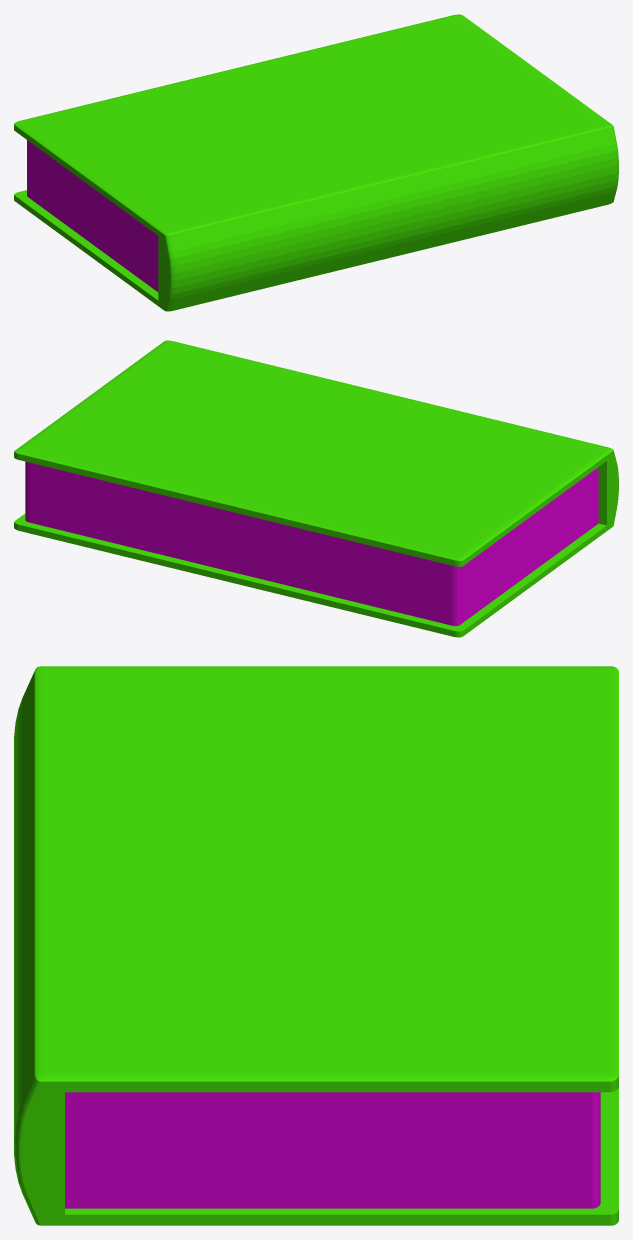
The model's file is Medium-Book.fbx.
3 renders of one model, top to bottom at view 1: azimuth 30°, elevation 25°; view 2: azimuth 150°, elevation 25°; view 3: azimuth 270°, elevation 25°, orthographic. The views are drawn at different scales.
Parts seen in each view (by area): view 1: Medium-book-Cover, Medium-book-Pages; view 2: Medium-book-Cover, Medium-book-Pages; view 3: Medium-book-Cover, Medium-book-Pages.
Part boxes in pixels (x1,y1,x2,y2): Medium-book-Cover: (14, 14, 618, 311); Medium-book-Pages: (27, 140, 158, 291); Medium-book-Cover: (14, 340, 618, 637); Medium-book-Pages: (25, 461, 598, 625); Medium-book-Cover: (14, 666, 618, 1225); Medium-book-Pages: (65, 1092, 600, 1208).
Size of the model in its own units: 206 by 34.34 by 127.
